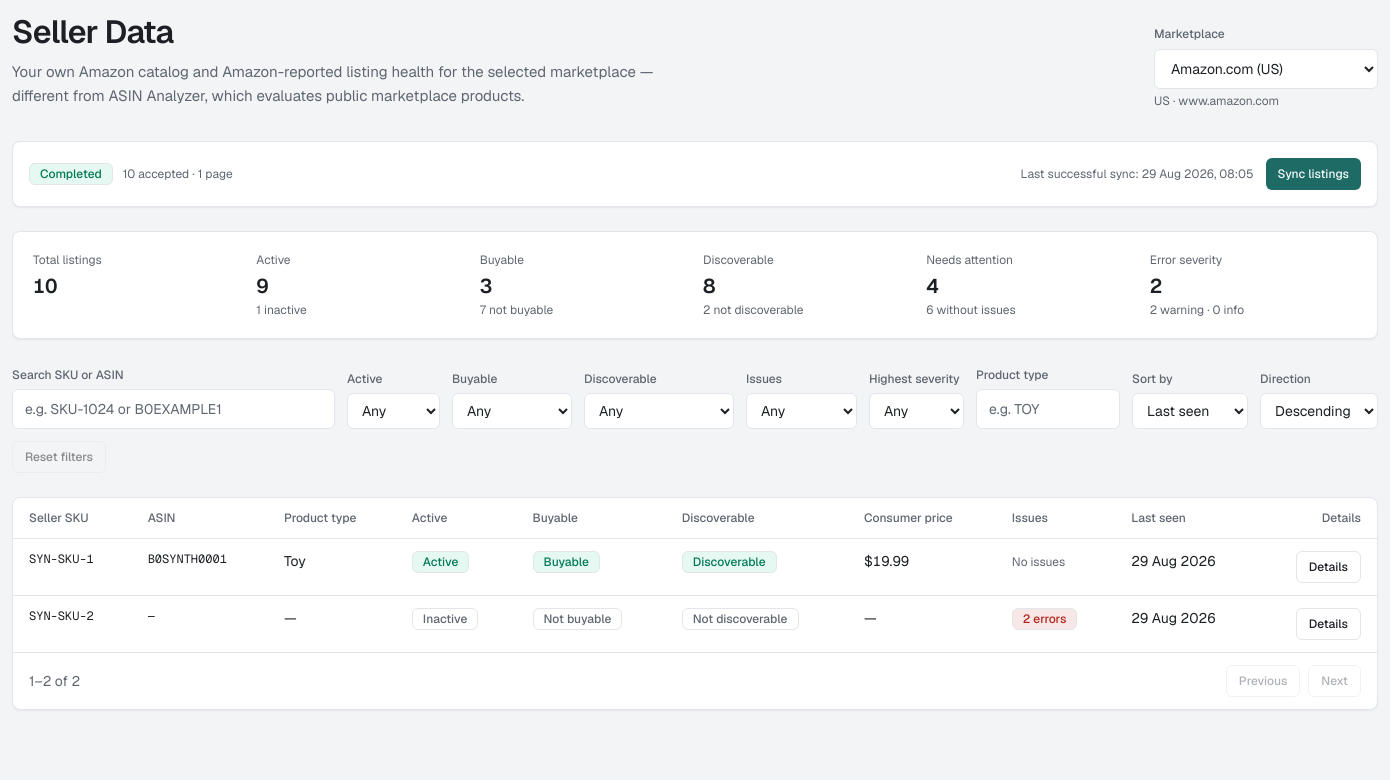
Scenario: Sync listings action › shows the exact throttle message and a human-friendly retry estimate while waiting_to_retry
Expected: the text "SYN-SKU-1" is shown, [13,539,132,596]
Click the button "Sync listings".
click(1313, 174)  # box [1266,158,1361,190]
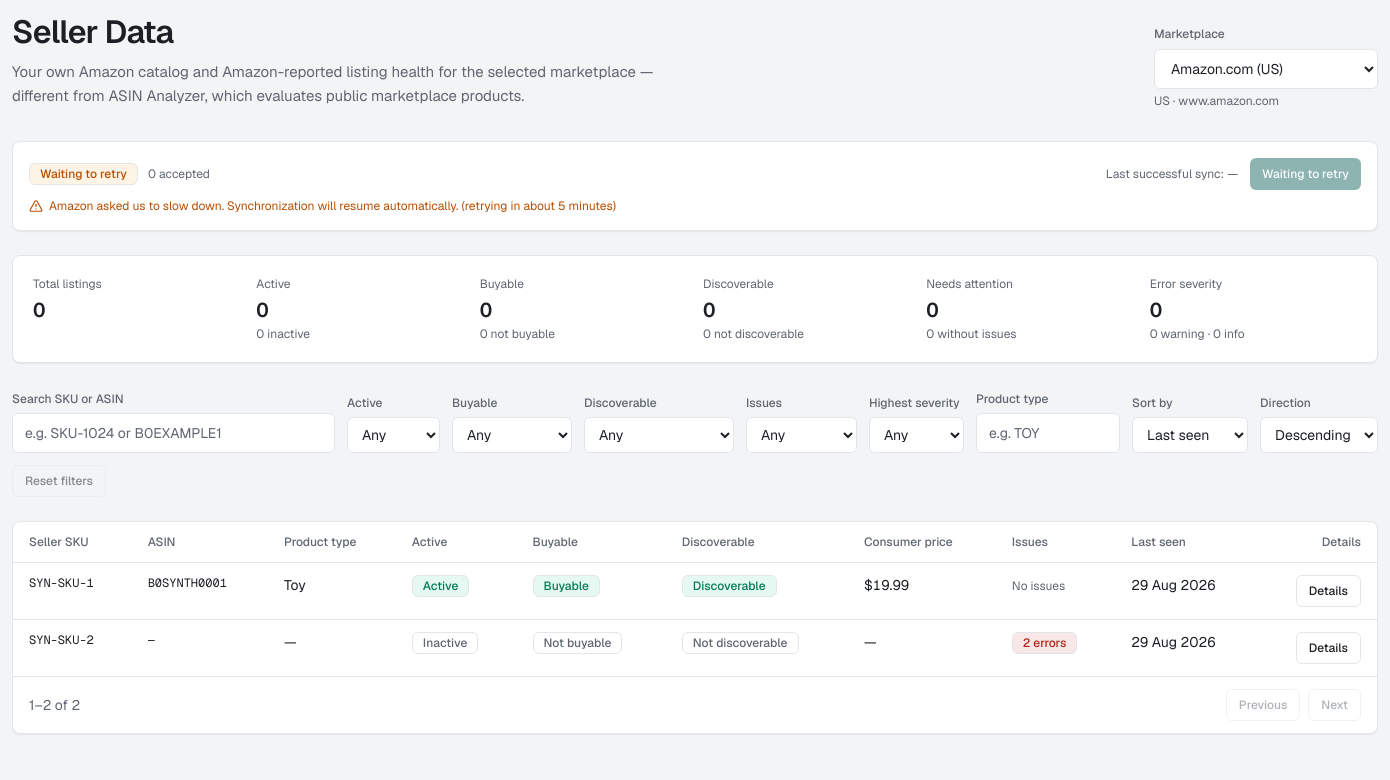
Expected: the text "SYN-SKU-1" is shown, [13,563,132,620]
Result: the text "Amazon asked us to slow down. Synchronization will resume automatically." is shown at [49,198,458,214]
Result: the text "retrying in about" is shown at [458,198,616,214]
